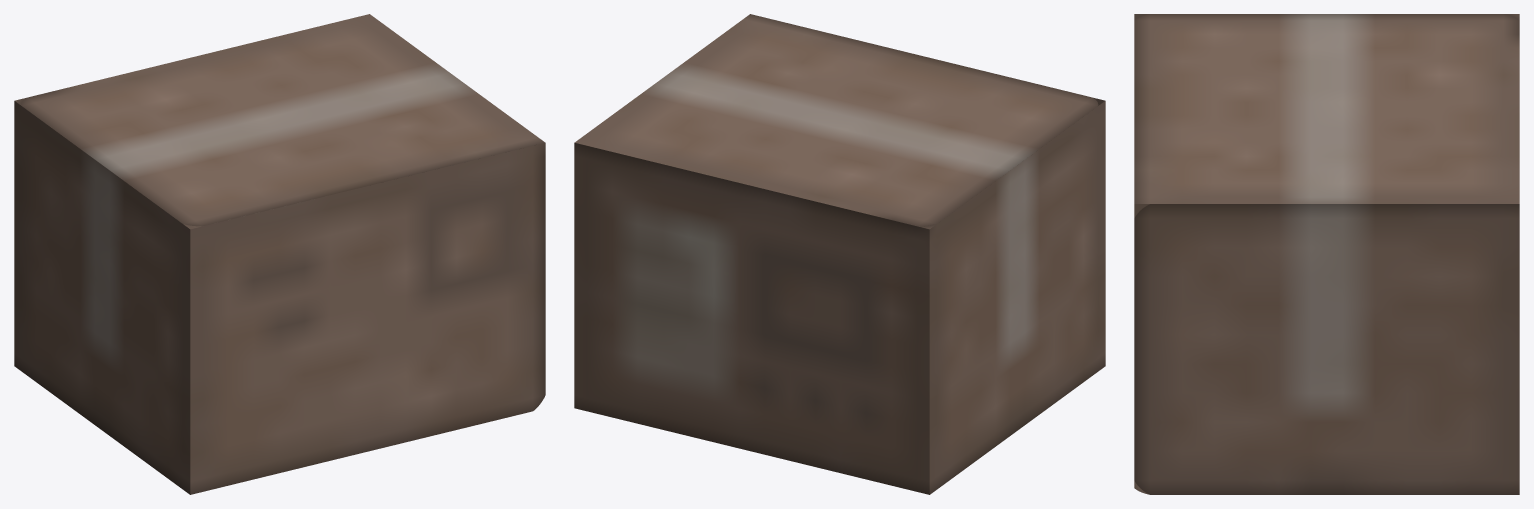
Rendered from delivery-box.obj.
3 views of the same model, side by side, from view 1: azimuth 30°, elevation 25°; view 2: azimuth 150°, elevation 25°; view 3: azimuth 270°, elevation 25° (orthographic). The views are drawn at different scales.
Parts seen in each view (by area): view 1: obj3, obj2, obj1; view 2: obj3, obj1, obj2; view 3: obj3, obj1, obj2.
Boxes of the visible parts, x1=… form: obj3: x1=14, y1=98, x2=545, y2=494; obj2: x1=103, y1=78, x2=544, y2=226; obj1: x1=21, y1=14, x2=456, y2=164; obj3: x1=574, y1=98, x2=1105, y2=494; obj1: x1=575, y1=78, x2=1016, y2=226; obj2: x1=663, y1=14, x2=1098, y2=164; obj3: x1=1134, y1=14, x2=1519, y2=494; obj1: x1=1327, y1=14, x2=1519, y2=203; obj2: x1=1134, y1=14, x2=1326, y2=203.
Bounding box in the file's own units: 0.875 × 0.6251 × 0.75.
Materials: 1 (1 with a texture image).
